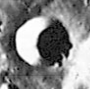crater: (4, 8, 82, 83)
